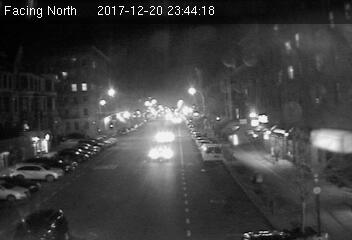car: (147, 144, 174, 163)
truck: (202, 143, 222, 163)
